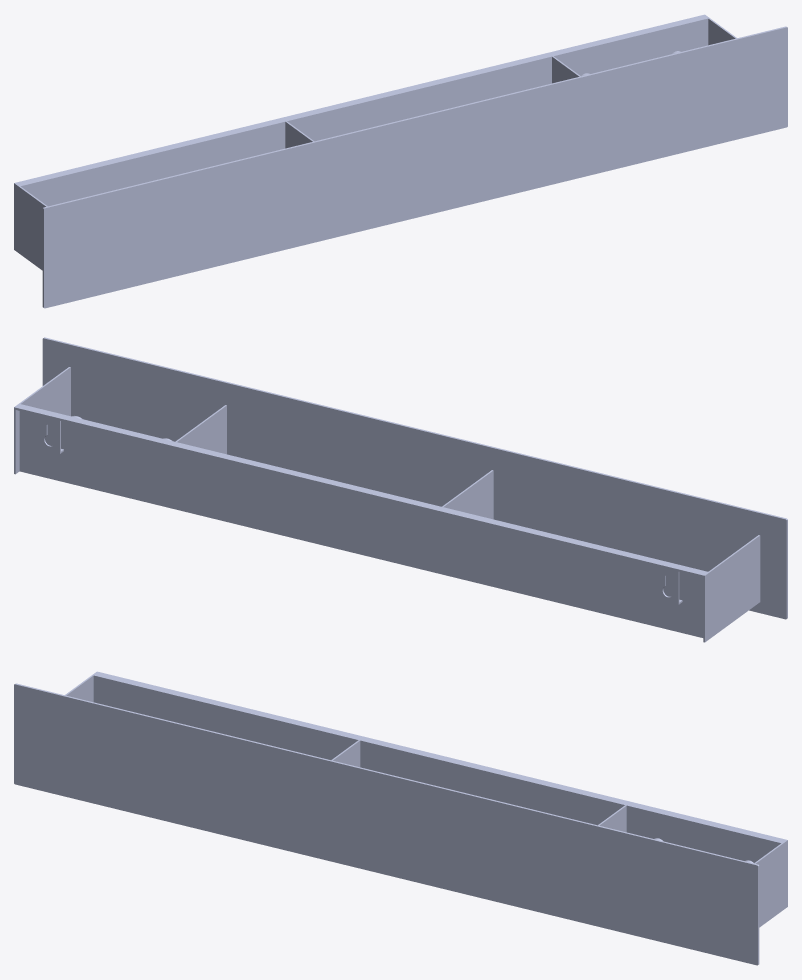
File: skyline-patron.4f8c165ac4.glb
3 views of the same model, one above another, from view 1: azimuth 30°, elevation 25°; view 2: azimuth 150°, elevation 25°; view 3: azimuth 330°, elevation 25° (orthographic).
Visible parts, largest first — view 1: NAUO1; view 2: NAUO1; view 3: NAUO1.
Part boxes in pixels (bbox=[...]): NAUO1: bbox=[14, 14, 787, 308]; NAUO1: bbox=[14, 337, 787, 642]; NAUO1: bbox=[14, 671, 787, 965].
Size of the model in its own units: 0.7 by 0.09 by 0.092.
